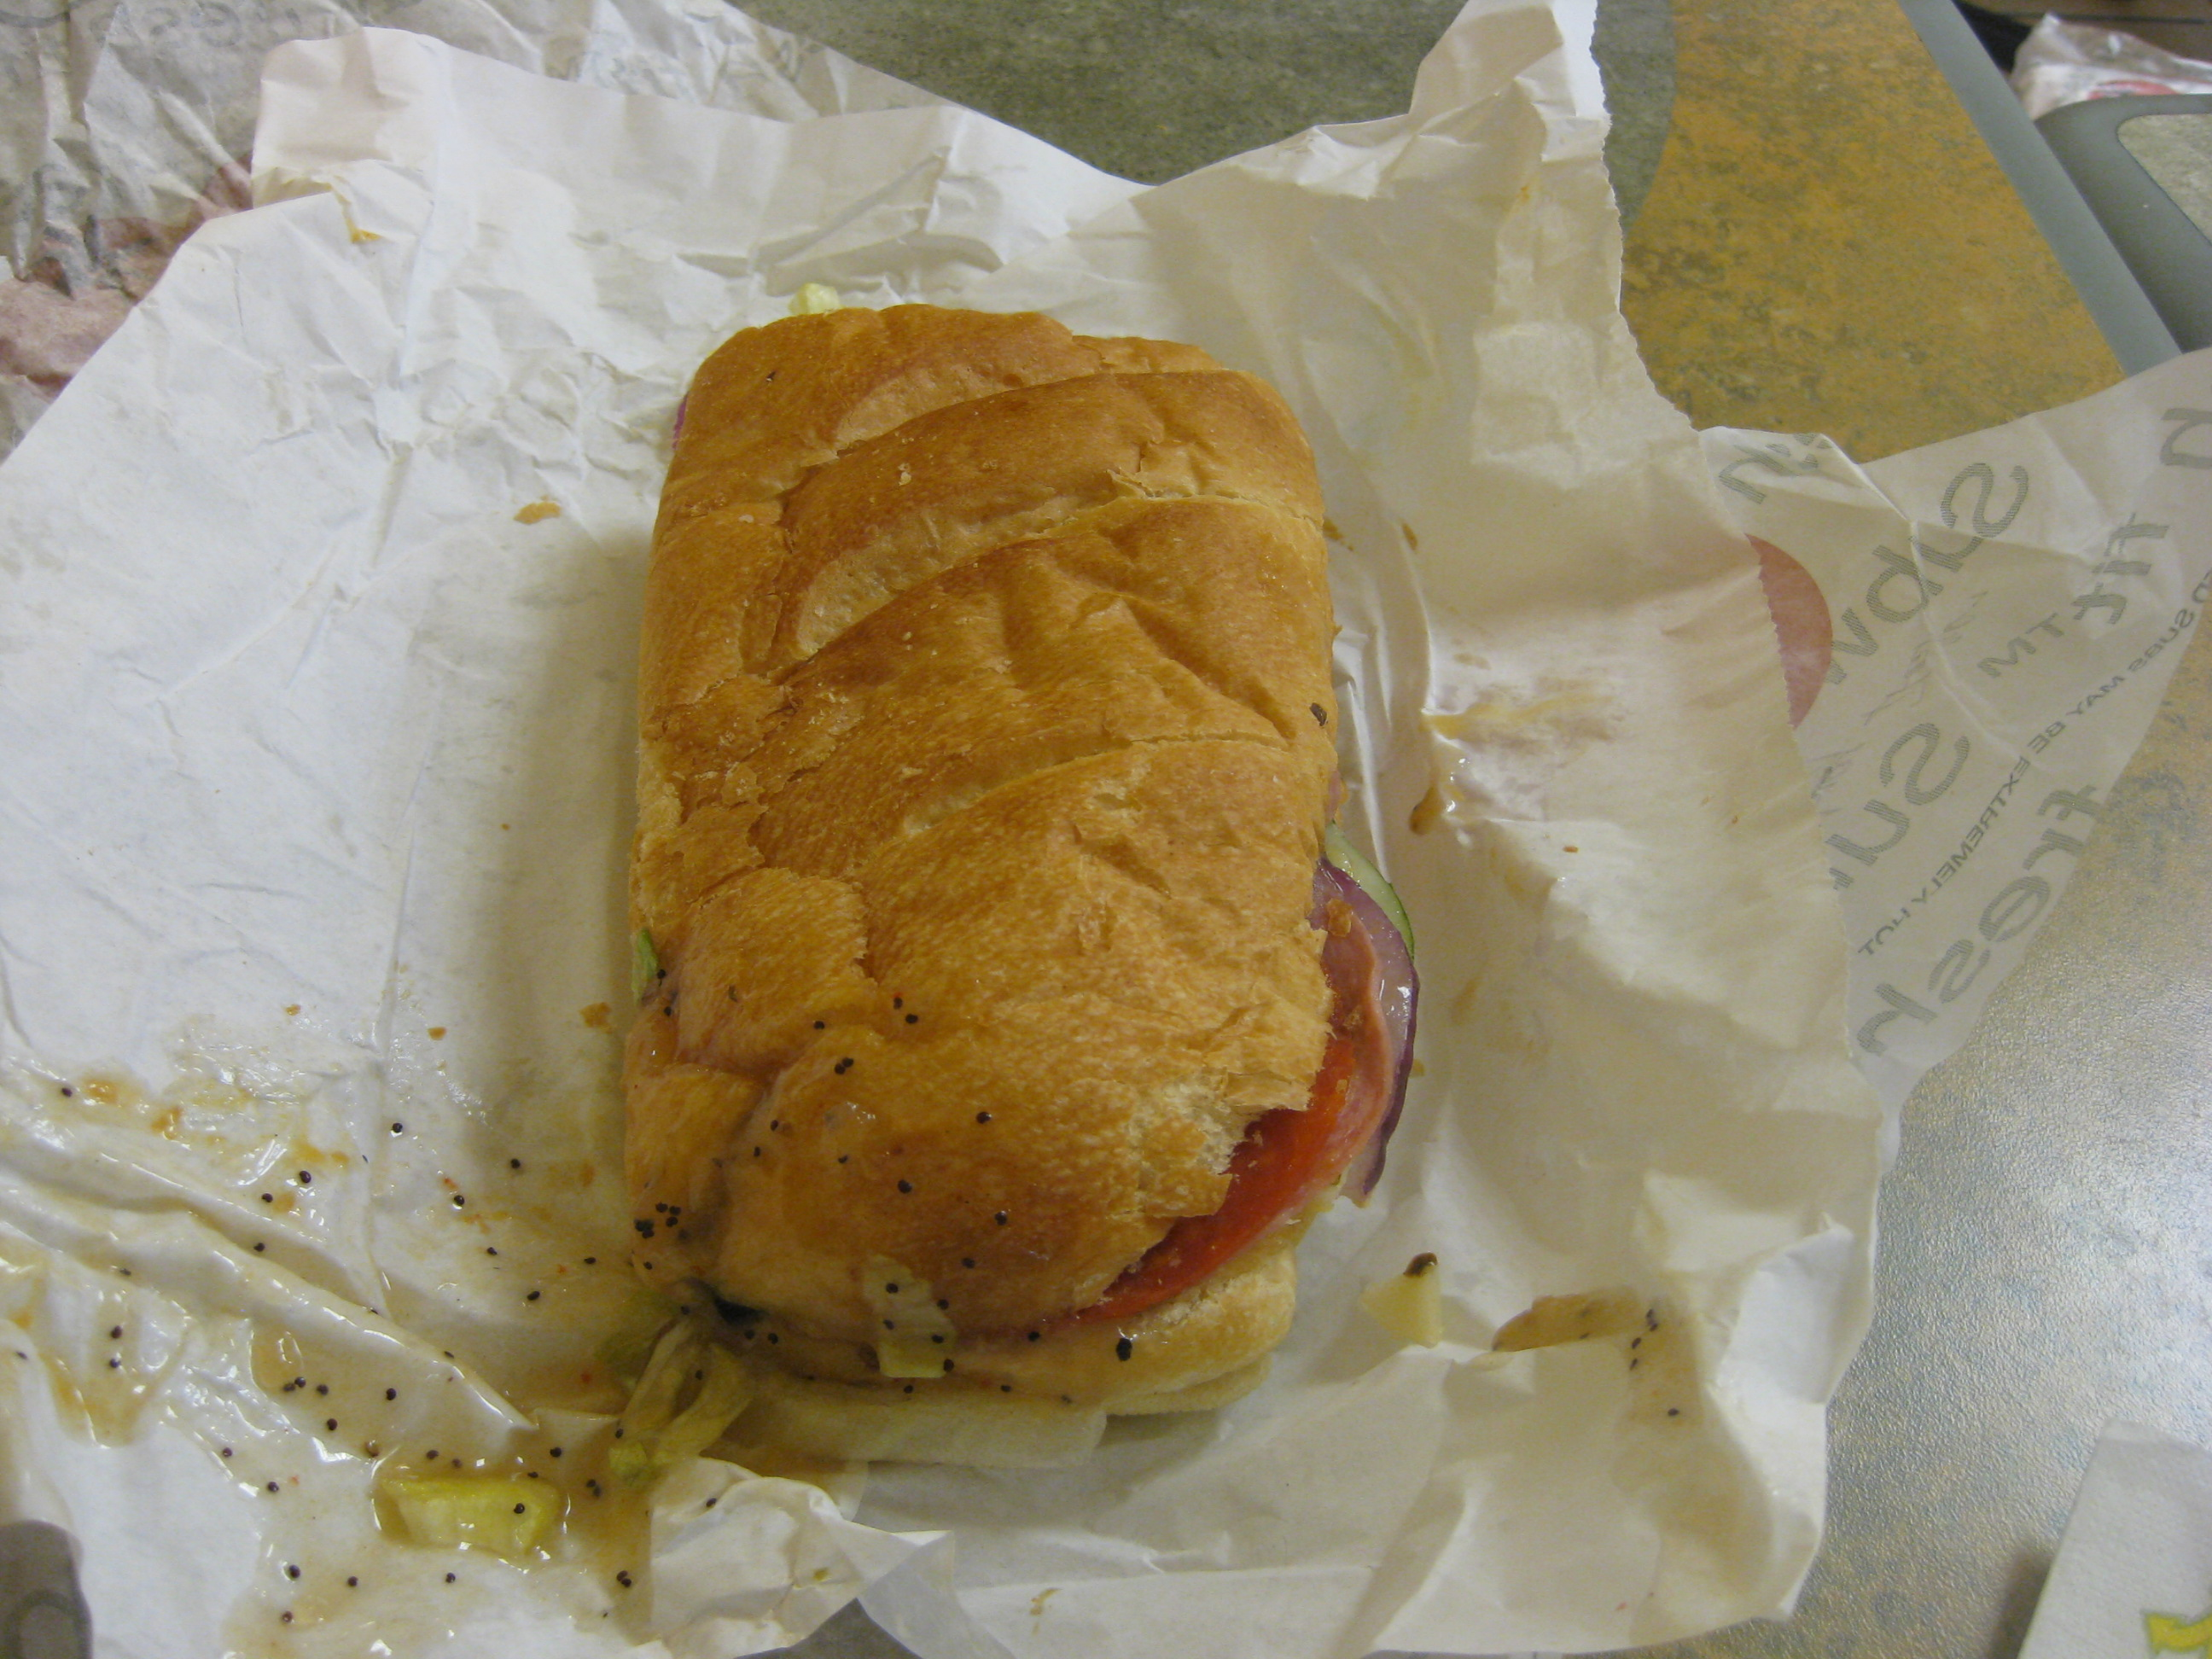sub: (612, 297, 1434, 1436)
